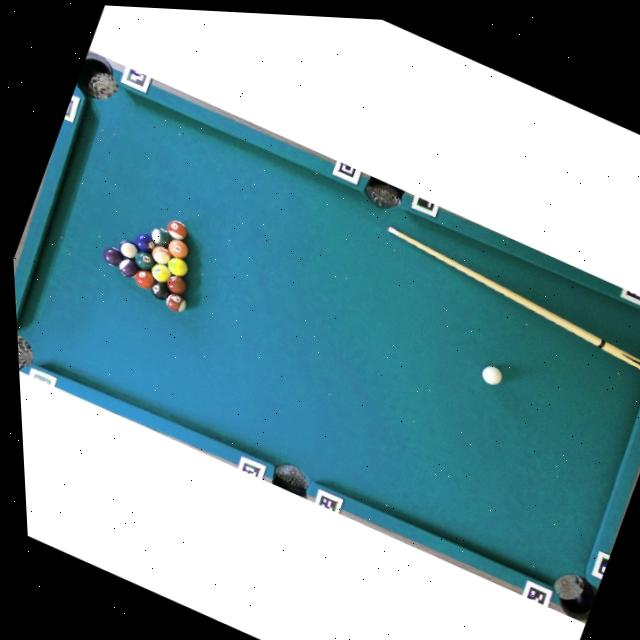cue ball: (478, 362, 505, 388)
other: (163, 254, 191, 281), (146, 223, 174, 250), (164, 235, 191, 262), (130, 266, 158, 292), (131, 248, 158, 274), (163, 272, 190, 298), (115, 254, 141, 281), (163, 217, 190, 243), (131, 230, 157, 256), (99, 244, 126, 269), (147, 242, 173, 267), (148, 260, 174, 285), (116, 237, 141, 262), (147, 278, 172, 303), (163, 290, 188, 314)
